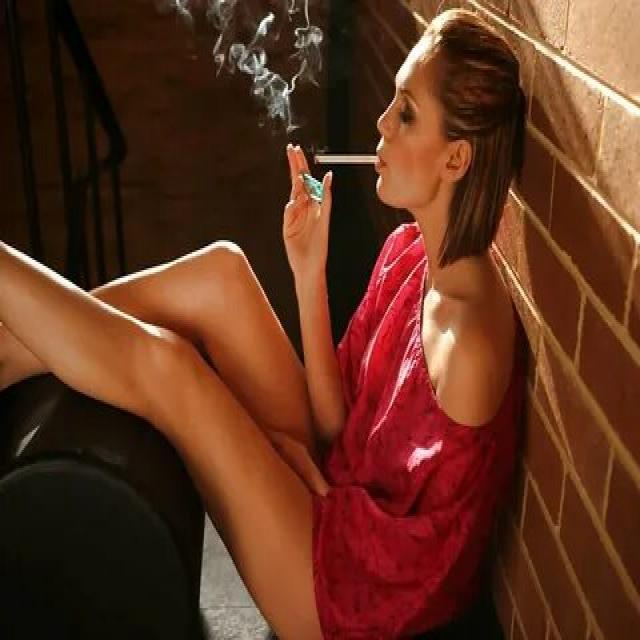smoke: (312, 146, 385, 172)
